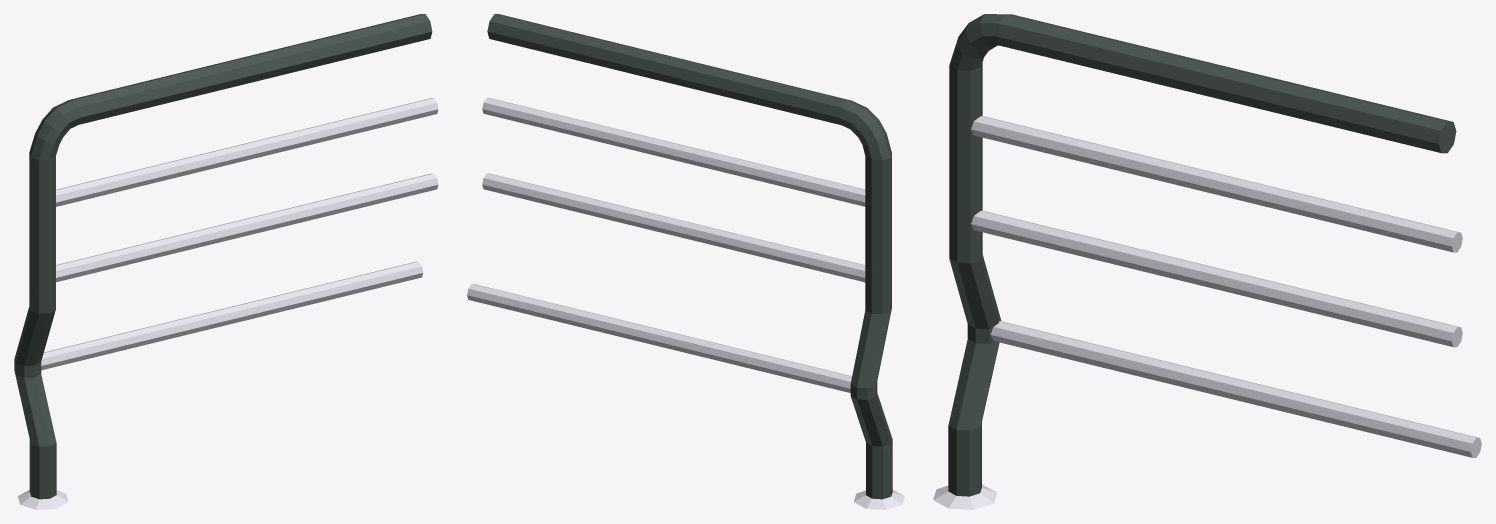
The model's file is L Fences.fbx.
3 renders of one model, left to right at view 1: azimuth 30°, elevation 25°; view 2: azimuth 150°, elevation 25°; view 3: azimuth 330°, elevation 25°, orthographic. The views are drawn at different scales.
Visible parts, largest first — view 1: Fences Right Sides; view 2: Fences Right Sides; view 3: Fences Right Sides.
Boxes of the visible parts, x1,y1,x2,y2 form: Fences Right Sides: [14, 14, 438, 509]; Fences Right Sides: [467, 14, 904, 509]; Fences Right Sides: [933, 14, 1481, 509].
Size of the model in its own units: 197 by 178 by 29.2.
